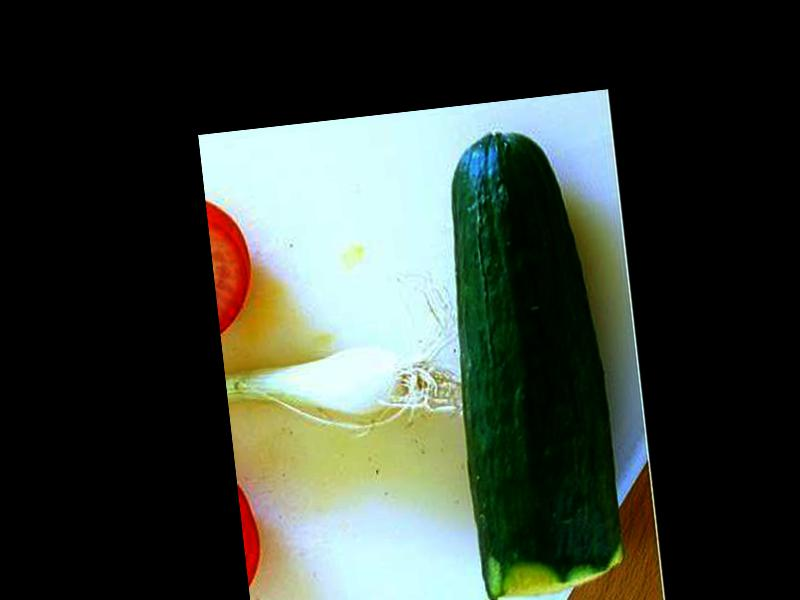Cucumber: (433, 121, 629, 600)
